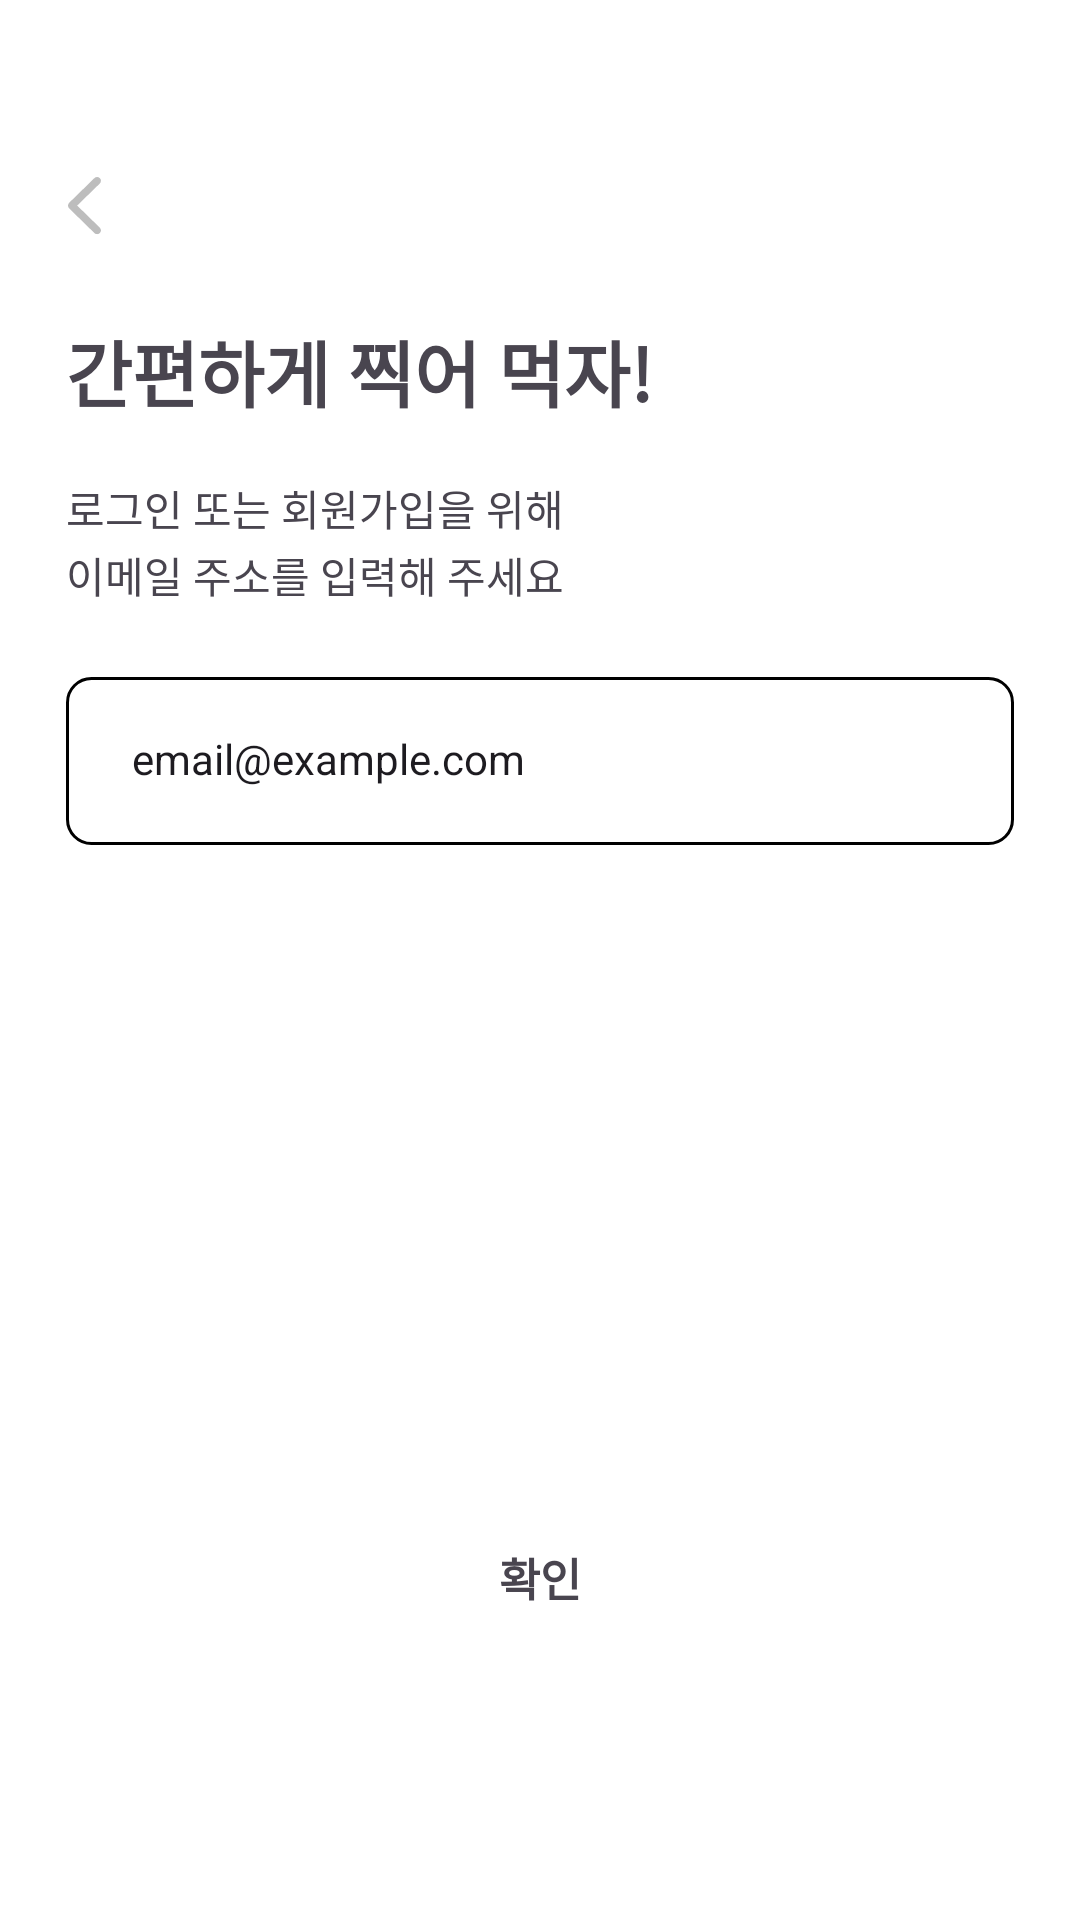

Named icons in this screenshot (1080px x 1920px) and their centers, [x,y]:
뒤로가기: [84,205]
